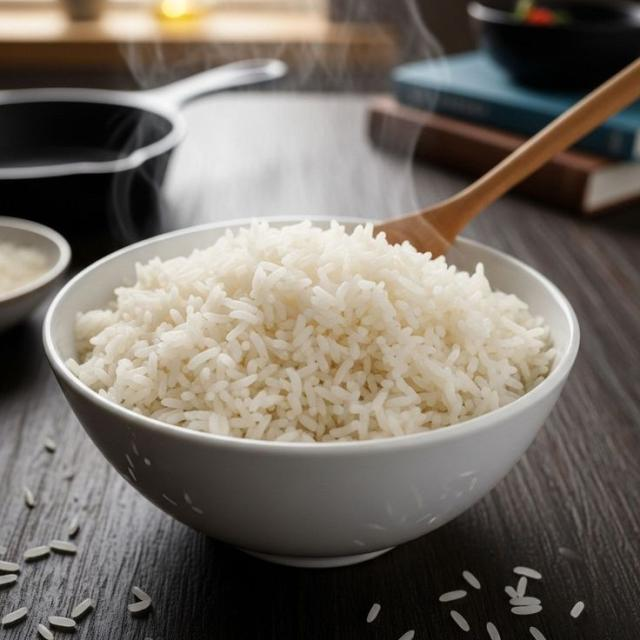rice: (68, 222, 553, 441), (0, 241, 47, 294), (463, 571, 480, 589)
